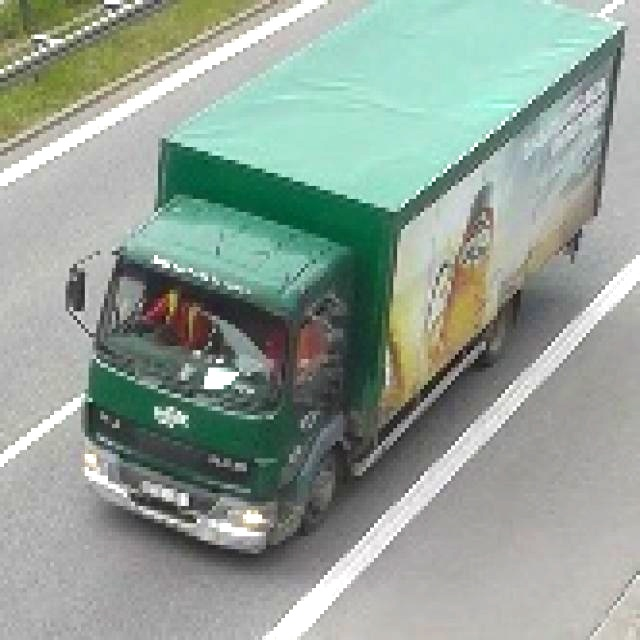truck: (9, 3, 627, 587)
